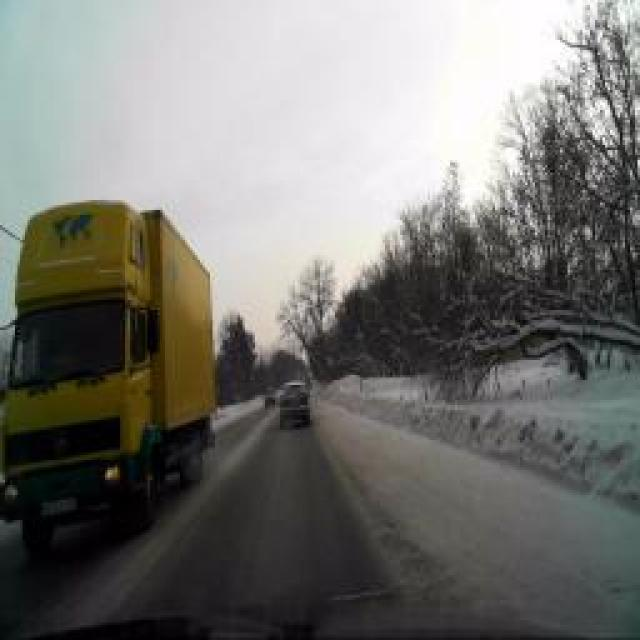sign: (354, 325, 364, 343)
